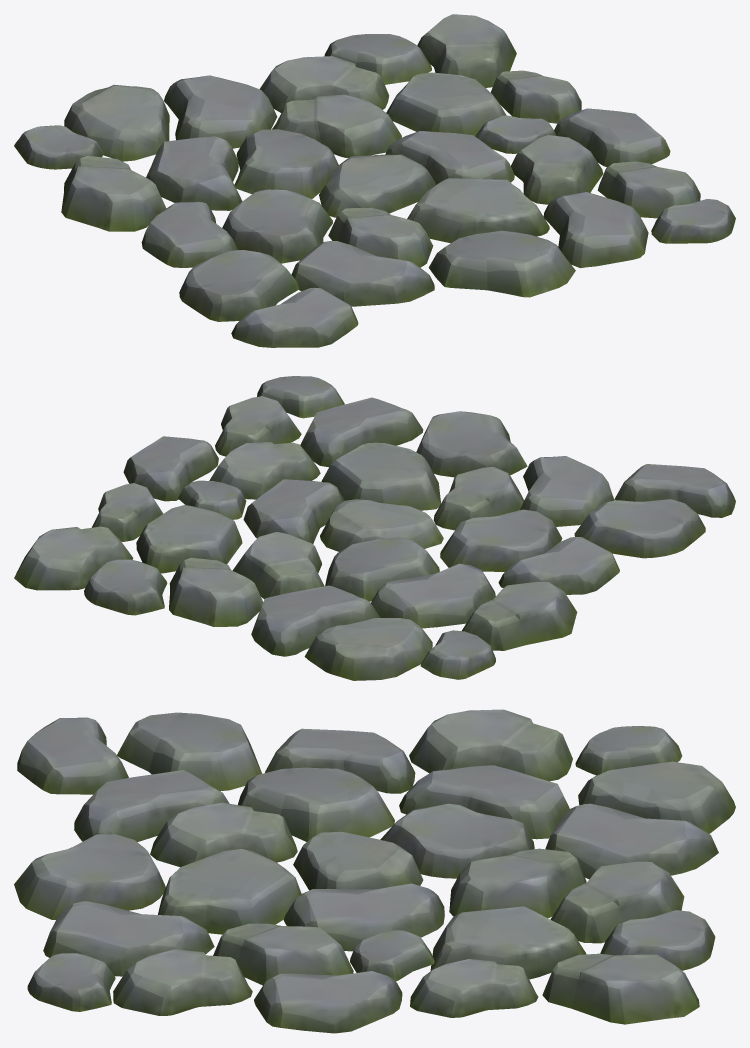
The model's file is bridge-1.glb.
3 views of the same model, one above another, from view 1: azimuth 30°, elevation 25°; view 2: azimuth 150°, elevation 25°; view 3: azimuth 270°, elevation 25° (orthographic). The views are drawn at different scales.
Parts seen in each view (by area): view 1: RockPath_Round_Wide; view 2: RockPath_Round_Wide; view 3: RockPath_Round_Wide.
Part boxes in pixels (<box>): RockPath_Round_Wide: <box>14,14,735,347</box>; RockPath_Round_Wide: <box>14,376,735,680</box>; RockPath_Round_Wide: <box>14,709,735,1033</box>.
Size of the model in its own units: 2.24 by 0.12 by 2.26.
Materials: 1 (1 with a texture image).
